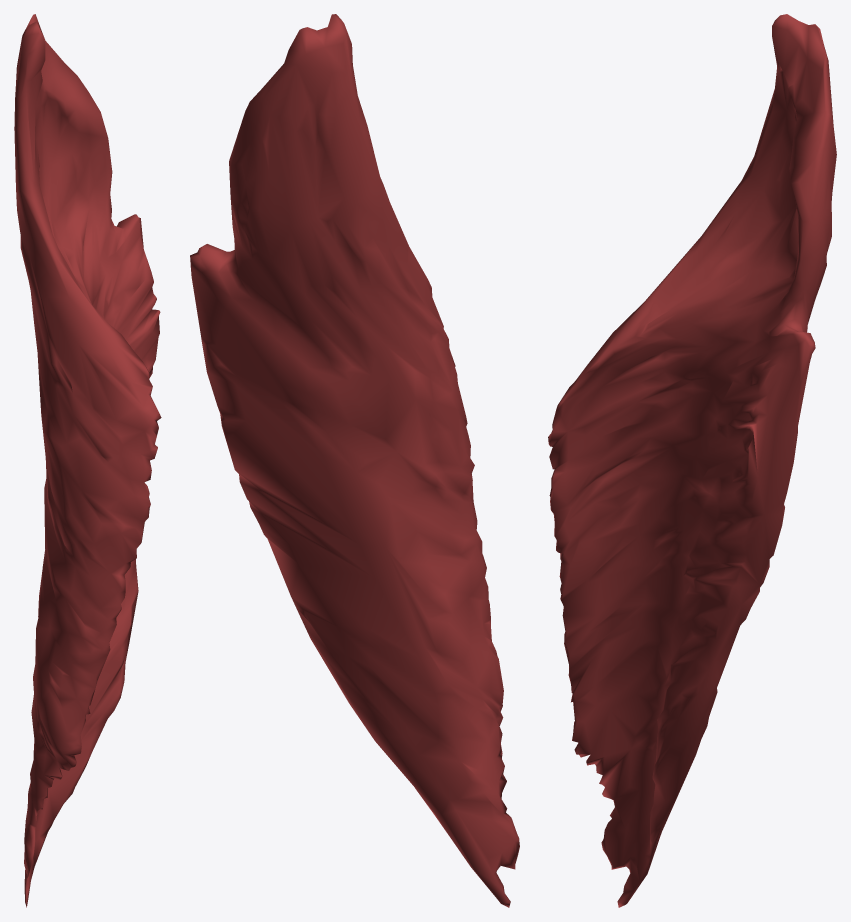
Rendered from supinator-r.glb.
3 views of the same model, side by side, from view 1: azimuth 30°, elevation 25°; view 2: azimuth 150°, elevation 25°; view 3: azimuth 270°, elevation 25° (orthographic). The views are drawn at different scales.
Parts seen in each view (by area): view 1: Supinator.r; view 2: Supinator.r; view 3: Supinator.r.
Boxes of the visible parts, x1,y1,x2,y2 form: Supinator.r: (14, 14, 161, 907); Supinator.r: (190, 14, 519, 907); Supinator.r: (548, 14, 836, 907).
Size of the model in its own units: 0.0329 by 0.128 by 0.0356.
